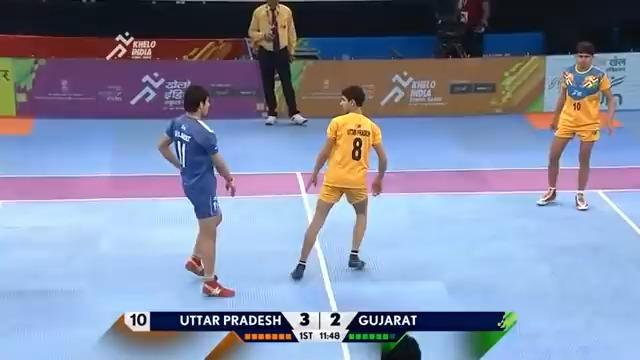Player: (156, 82, 238, 299), (534, 39, 617, 211)
Raider: (289, 83, 389, 281)
referee: (247, 0, 308, 125)
